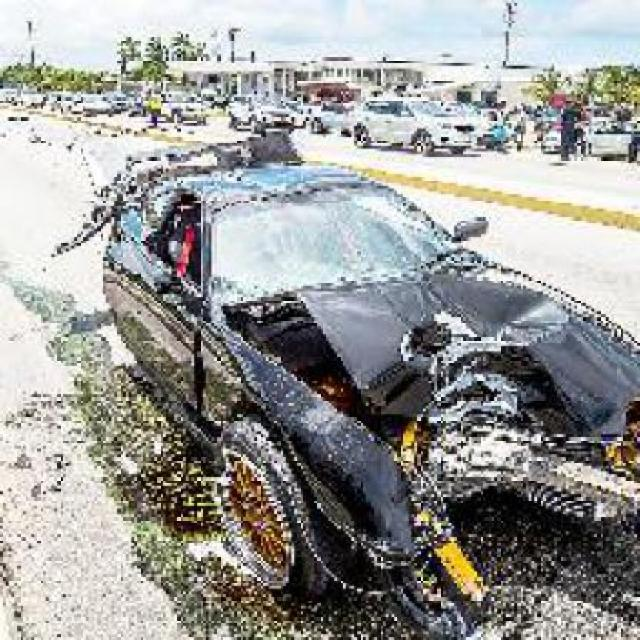damaged-hood: (277, 277, 637, 412)
damaged-windscreen: (211, 183, 443, 292)
